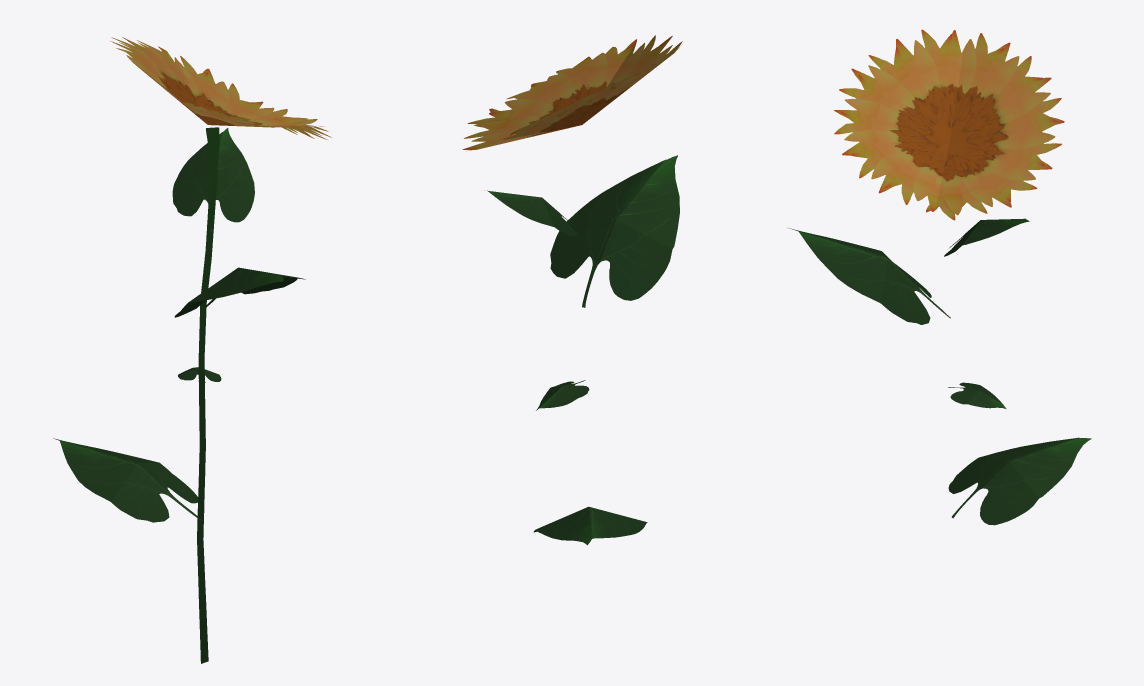
The model's file is Plant006.fbx.
The picture shows the model from 3 angles, left to right: view 1: azimuth 30°, elevation 25°; view 2: azimuth 150°, elevation 25°; view 3: azimuth 270°, elevation 25°; orthographic projection. The views are drawn at different scales.
Visible parts, largest first — view 1: Plane.003; view 2: Plane.003; view 3: Plane.003.
Boxes of the visible parts, x1,y1,x2,y2 form: Plane.003: [53, 37, 331, 663]; Plane.003: [462, 35, 682, 545]; Plane.003: [787, 29, 1091, 525].
Bounding box in the file's own units: 39.83 × 93.6 × 49.81.
